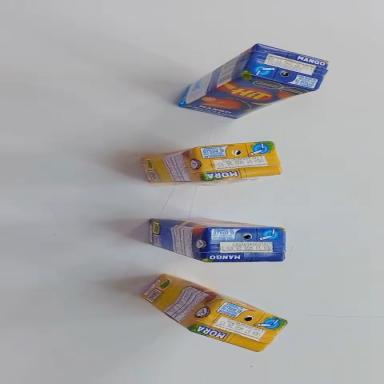HIT-MANGO: (169, 24, 335, 134), (147, 216, 285, 266)
HIT-MORA: (136, 266, 288, 363), (141, 139, 282, 187)
cara_F: (178, 53, 315, 136), (151, 211, 282, 238)
